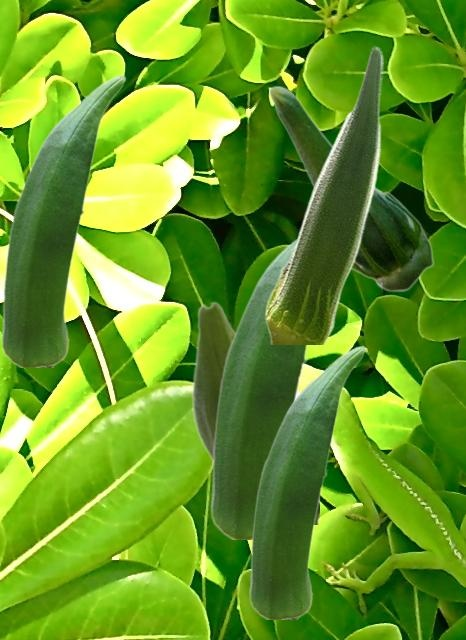okra: (0, 74, 125, 366), (264, 45, 382, 343), (268, 85, 433, 291), (248, 345, 365, 618), (209, 238, 309, 538), (191, 301, 318, 523)
